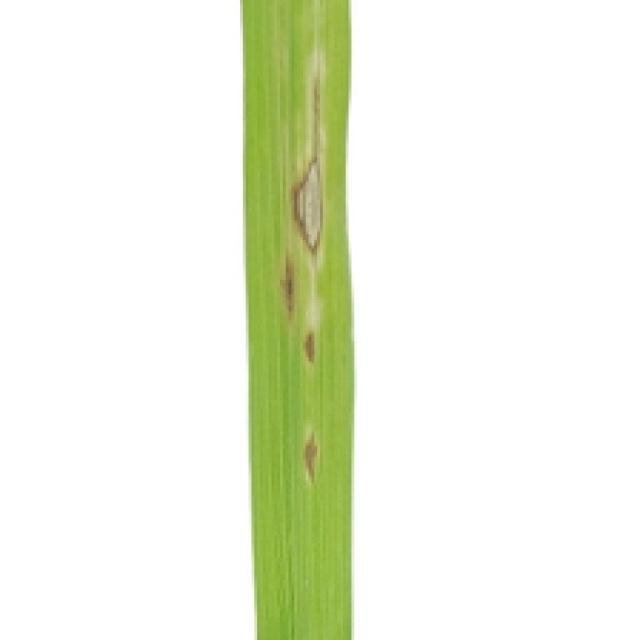Rice___Rice_Blast: (239, 1, 354, 637)
